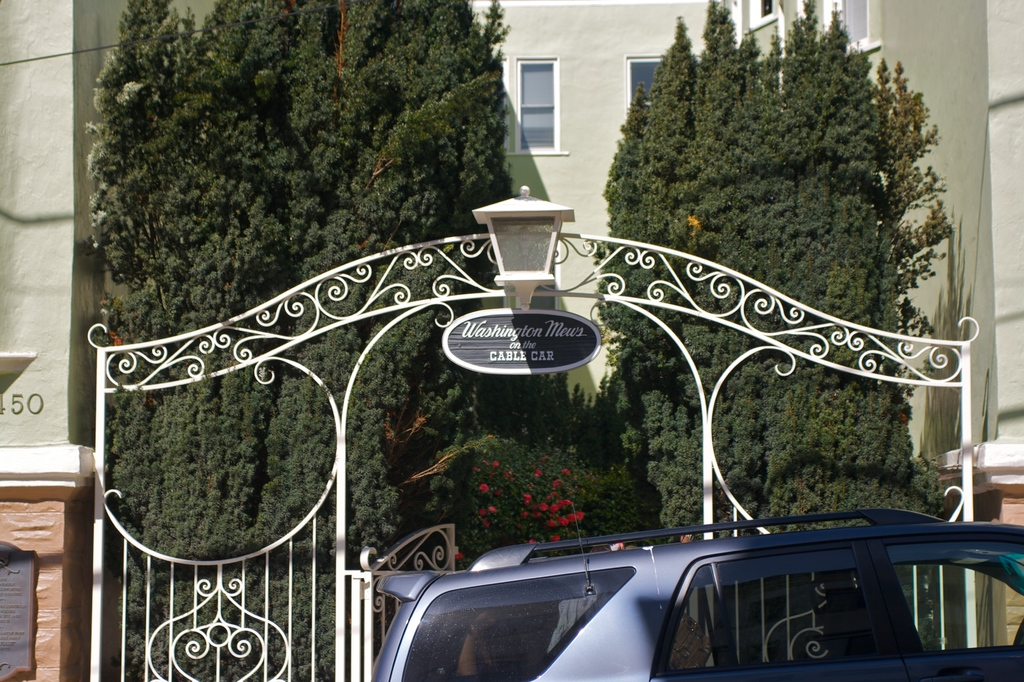Car: (371, 506, 1023, 681)
